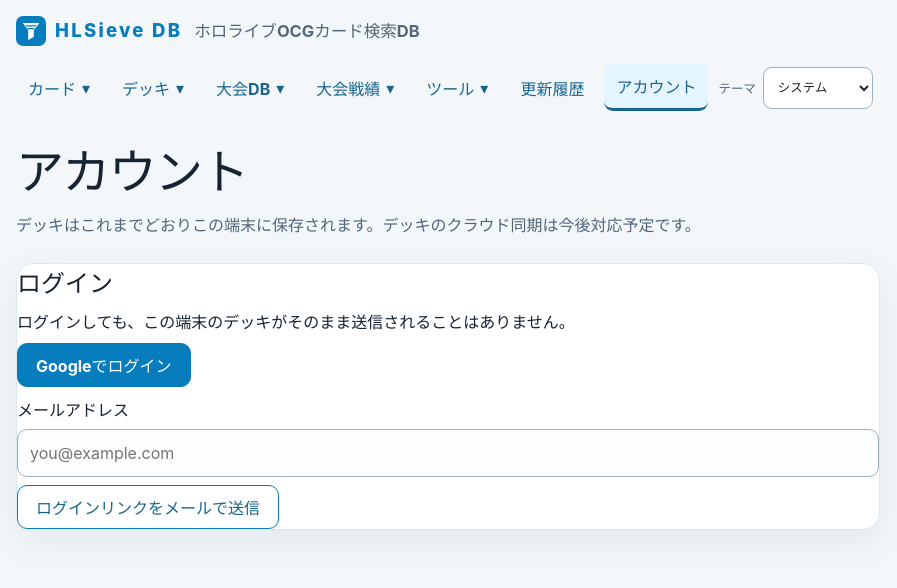
account page while signed out › does not submit twice while the first send is in flight
Expected: the heading "ログイン" is shown, [17,269,113,298]
Type "player@example.com" into the field labelled "メールアドレス" at (448, 453), box [17,429,879,477]
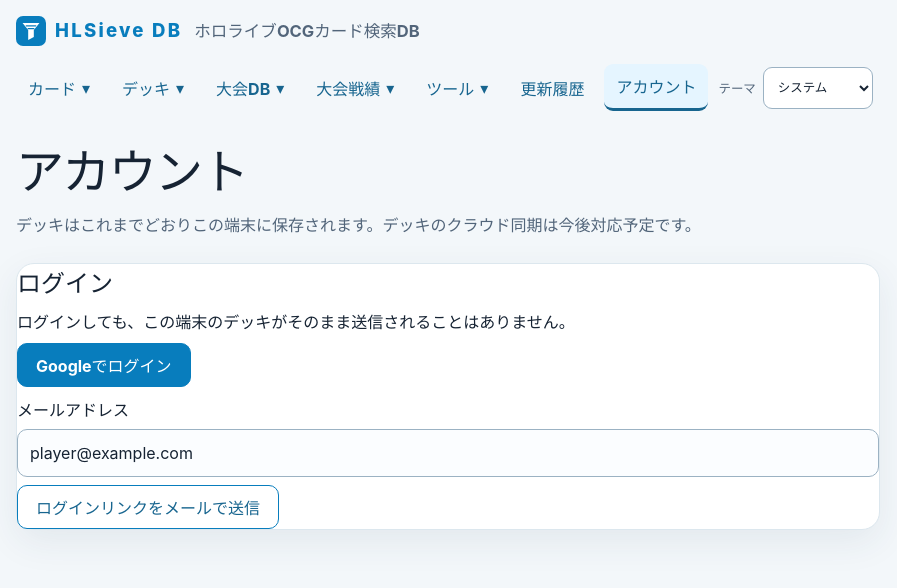
Click the button "ログインリンクをメールで送信" at (148, 507), box [17,485,279,529]
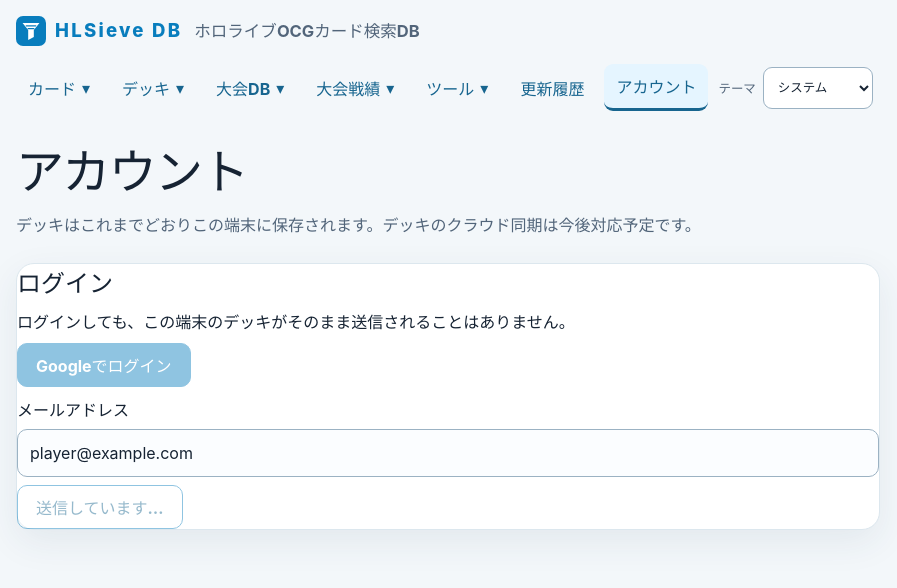
Result: the button named "ログインリンクをメールで送信" is disabled
Click the button named "ログインリンクをメールで送信" at (100, 507), box [17,485,183,529]
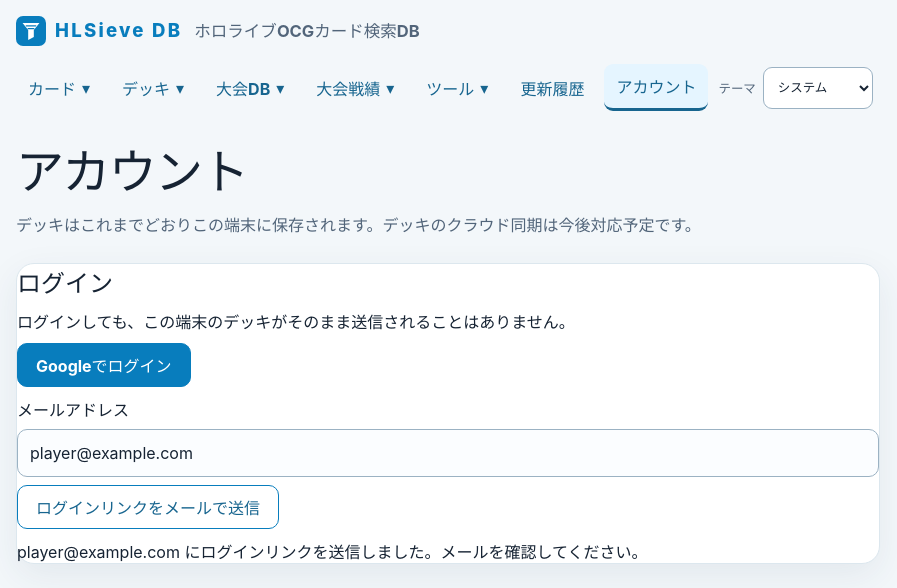
Result: the button "ログインリンクをメールで送信" is enabled at [17,485,279,529]
